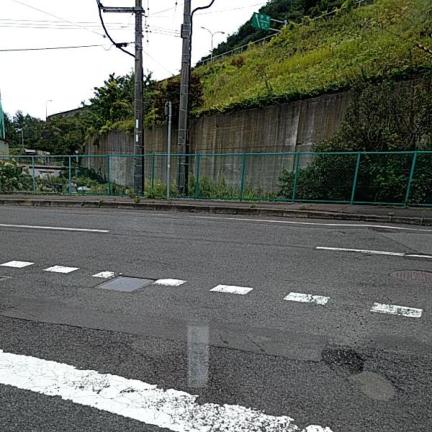Road: (0, 207, 431, 431)
